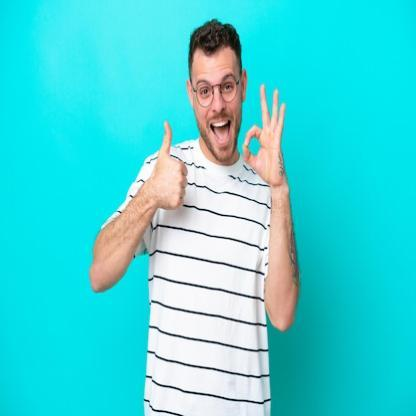ok: (240, 78, 294, 184)
thumb_up: (152, 116, 190, 214)
